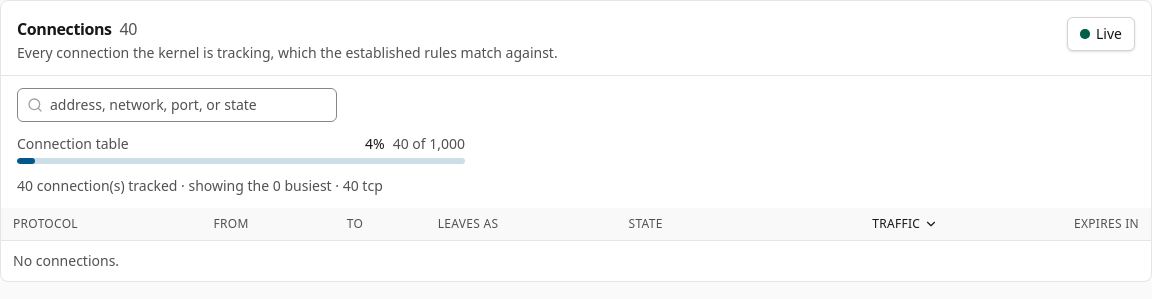
Test: ConnectionsPage › asks the router to search once typing rests
Type "10.0.0.0/8 443" into the search field with placeholder "address, network, port, or state".
click(177, 105); type("10.0.0.0/8 443")  # box 17,88 -> 337,122
Wait 250 ms
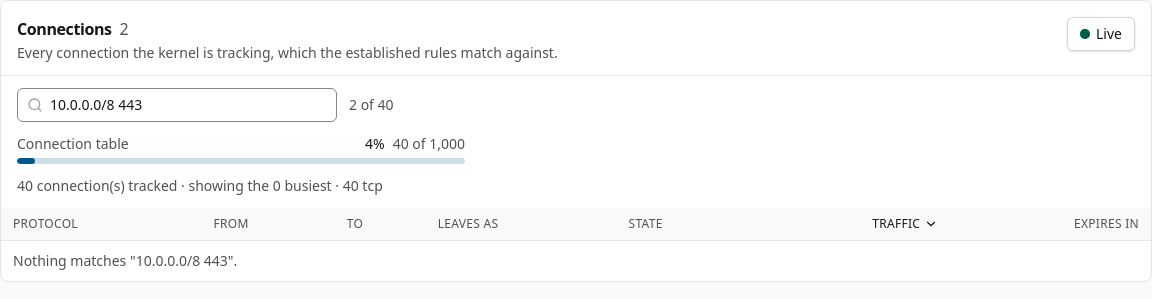
Expected: the text "2 of 40" is shown, 349,95 -> 394,115
